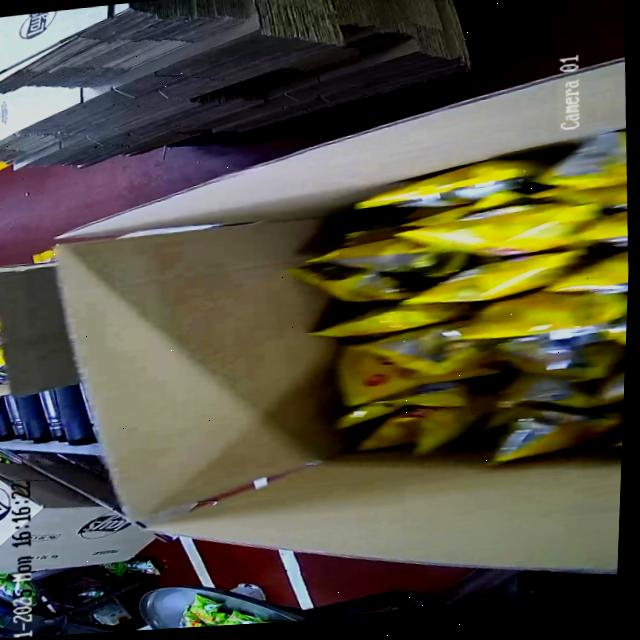SALTED: (297, 121, 634, 470), (0, 267, 14, 379)
